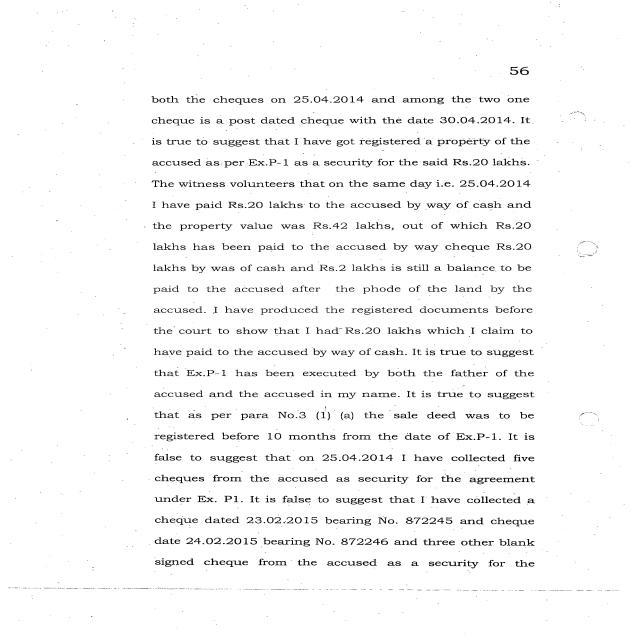page-number: (385, 10, 640, 85)
